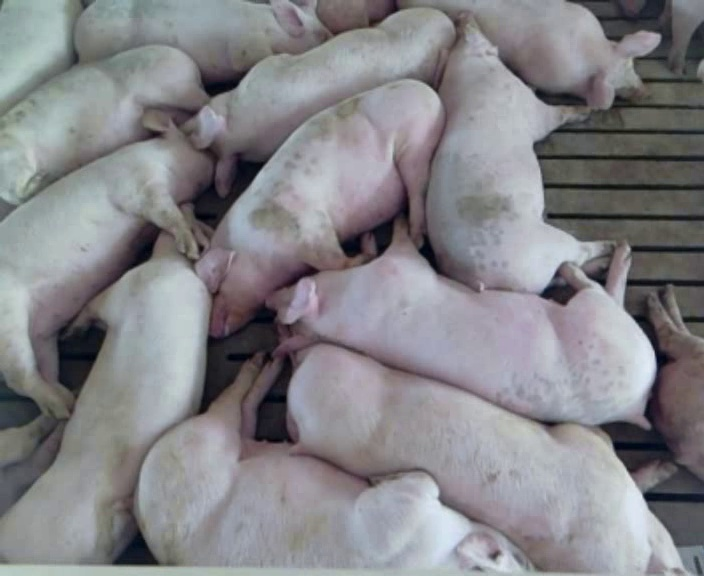pig: (137, 358, 532, 572), (267, 218, 655, 426), (0, 107, 213, 417), (197, 80, 444, 336), (182, 8, 454, 195), (426, 17, 608, 292), (0, 45, 207, 219), (400, 2, 660, 108), (74, 2, 330, 81), (647, 285, 703, 479), (0, 414, 65, 516)
